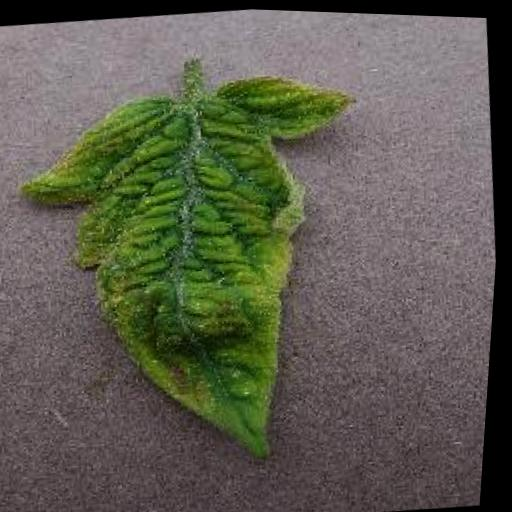Yellow Leaf Curl Virus: (0, 60, 396, 487)
